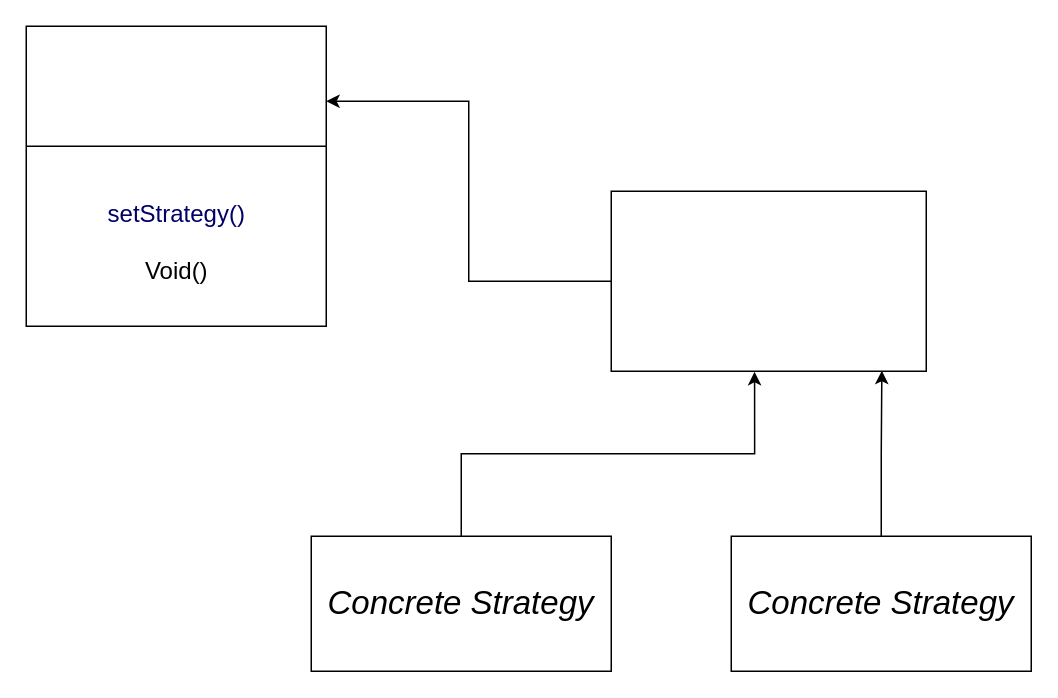
Image size: 1058x698. Some labels were removed from this diagram. The shapes that lost their labels are listed below. From the top down, each one's box as (x1, y1, x2, y2) in pixels, then its label:
(25, 25, 326, 326): Context
(610, 190, 926, 371): Strategy
